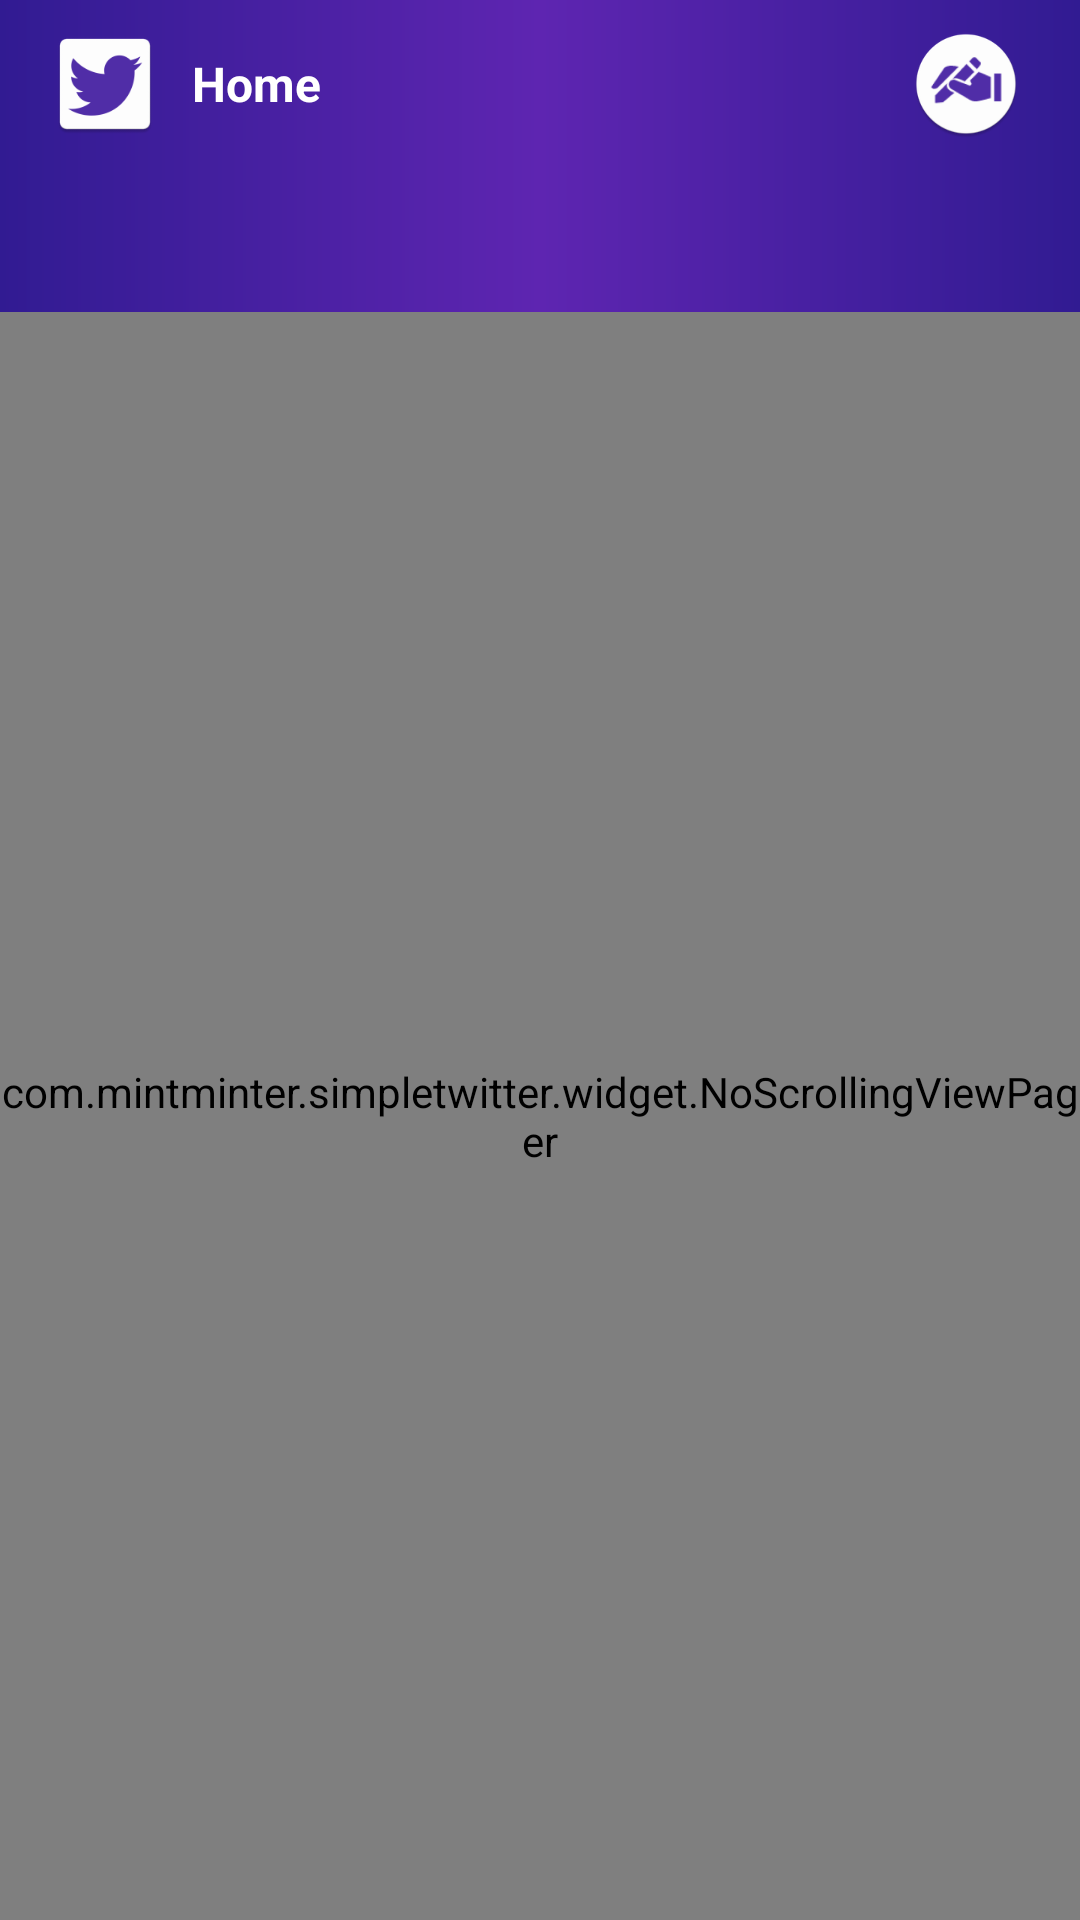

Where to tap for icons on this 1080×1920 app screen, as [x,y]:
write: [966,84]
